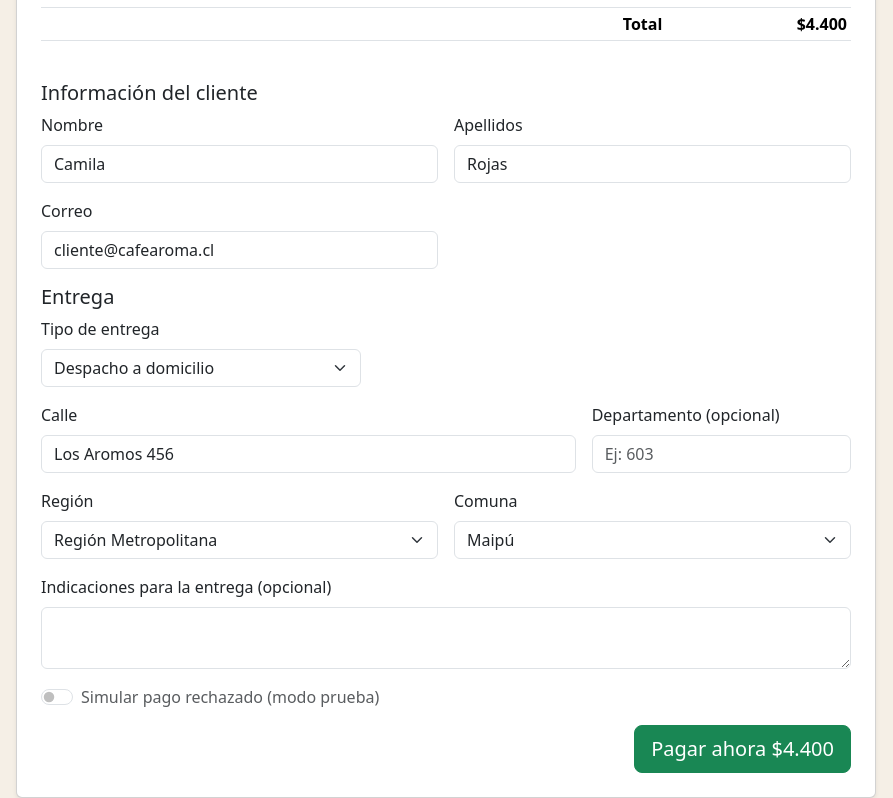
Scenario: CheckoutView › un pago rechazado muestra la vista de error y mantiene el carrito
The image size is (893, 798).
(page scrolled)
Click the checkbox labelled "Simular pago rechazado (modo prueba)": (57, 697) [41,689,73,705]
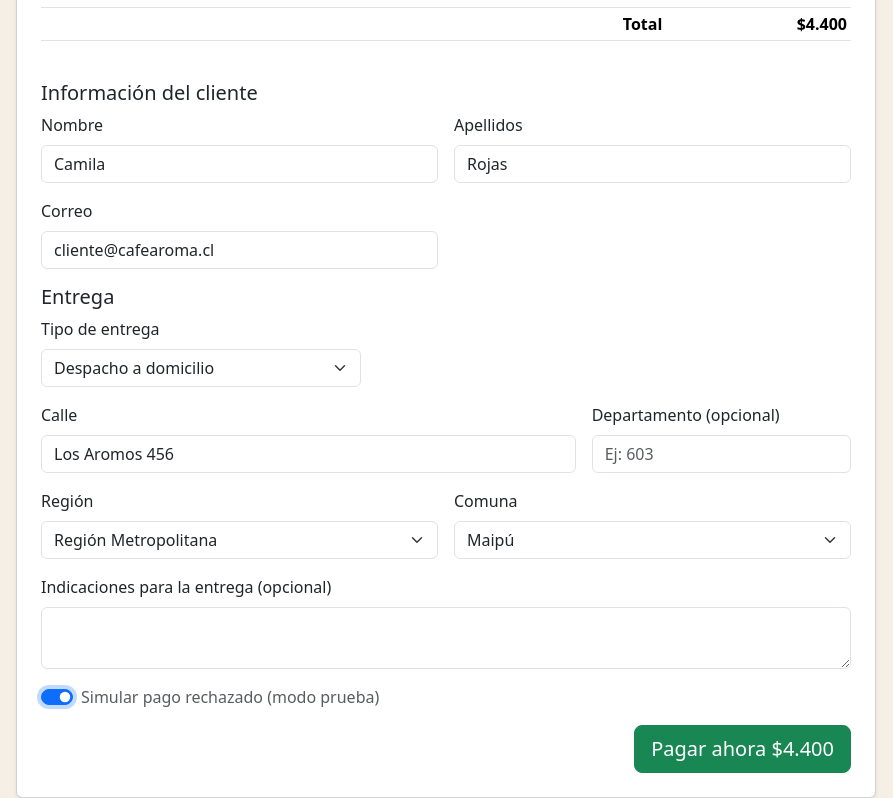
Click the button "Pagar ahora $4.400": (743, 749) [634,725,851,773]
(page scrolled)
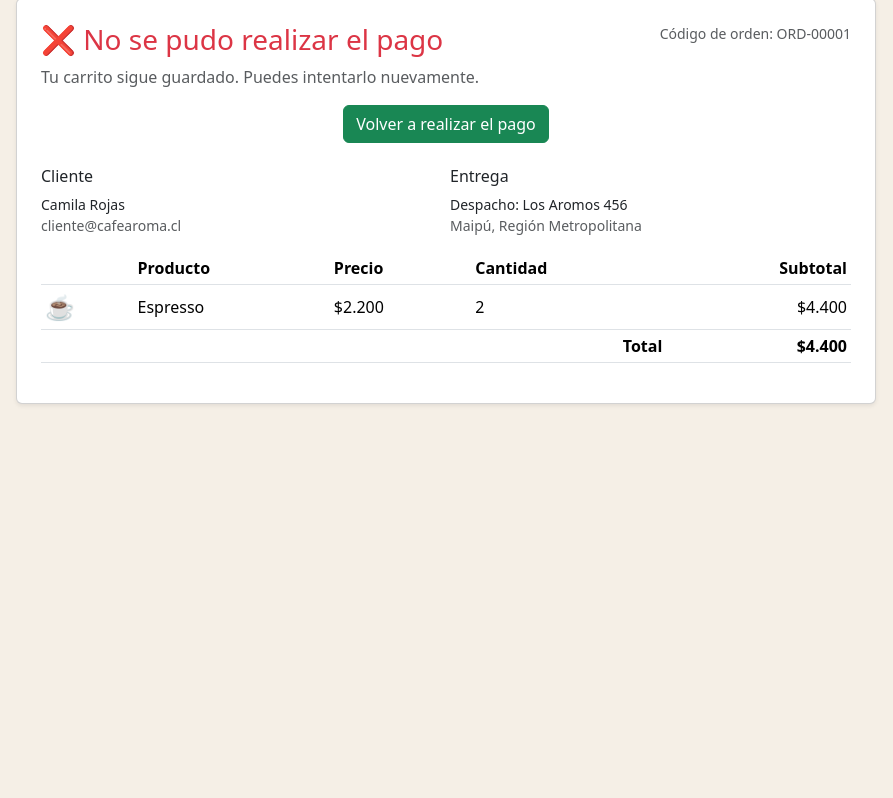
Result: the heading "❌ No se pudo realizar el pago" is shown at [41,23,443,57]
